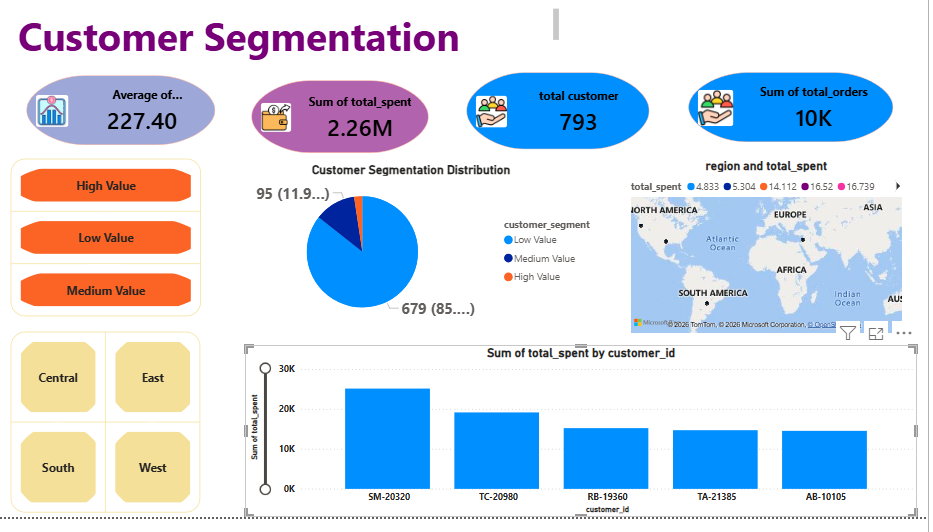

What the dashboard file says about the page in this screenshot:
{"tool":"powerbi","page":{"name":"Page 1","canvas":[1280,720],"ordinal":0},"visuals":[{"type":"cardVisual","fields":{"Data":["CountNonNull(Query1.customer_id)"]},"box":[627.8,90.7,286.8,140.5],"z":0},{"type":"cardVisual","fields":{"Data":["Sum(Query1.total_spent)"]},"box":[332.2,102.4,278,134.6],"z":1000},{"type":"cardVisual","fields":{"Data":["Avg(Query2.avg_order_value)"]},"box":[22,95.1,294.1,130.2],"z":2000},{"type":"pieChart","title":"Customer Segmentation Distribution","fields":{"Y":["CountNonNull(Query1.customer_id)"],"Category":["Query1.customer_segment"]},"box":[301.5,231.2,534.1,228.3],"z":3000},{"type":"clusteredColumnChart","fields":{"Y":["Sum(Query1.total_spent)"],"Category":["Query1.customer_id"]},"box":[340,483.1,924.9,236.7],"z":4000},{"type":"map","fields":{"Category":["custome tabel.region"],"Series":["Query1.total_spent"]},"box":[866.3,225.4,383.4,245.9],"z":5000},{"type":"advancedSlicerVisual","fields":{"Values":["Query1.customer_segment"]},"box":[11.7,221,272.2,228.3],"z":6000},{"type":"advancedSlicerVisual","fields":{"Values":["custome tabel.region"]},"box":[11.7,459.5,272.2,260.5],"z":7000},{"type":"textbox","box":[22,14.6,755.1,87.8],"z":8000},{"type":"cardVisual","fields":{"Data":["Sum(Query2.total_orders)"]},"box":[933.7,90.7,316.1,130.2],"z":9000}]}

Visuals, with their boxes in screenshot pixels (x1, y1, x2, y2), scaled from the page's 1280x720 canvas onto the 933x532 screenshot:
cardVisual - CountNonNull(Query1.customer_id): [458, 67, 667, 171]
cardVisual - Sum(Query1.total_spent): [242, 76, 445, 175]
cardVisual - Avg(Query2.avg_order_value): [16, 70, 230, 166]
"Customer Segmentation Distribution" pieChart: [220, 171, 609, 340]
clusteredColumnChart - Sum(Query1.total_spent) x Query1.customer_id: [248, 357, 922, 531]
map - custome tabel.region x Query1.total_spent: [631, 167, 911, 348]
advancedSlicerVisual - Query1.customer_segment: [9, 163, 207, 332]
advancedSlicerVisual - custome tabel.region: [9, 340, 207, 531]
textbox: [16, 11, 566, 76]
cardVisual - Sum(Query2.total_orders): [681, 67, 911, 163]
